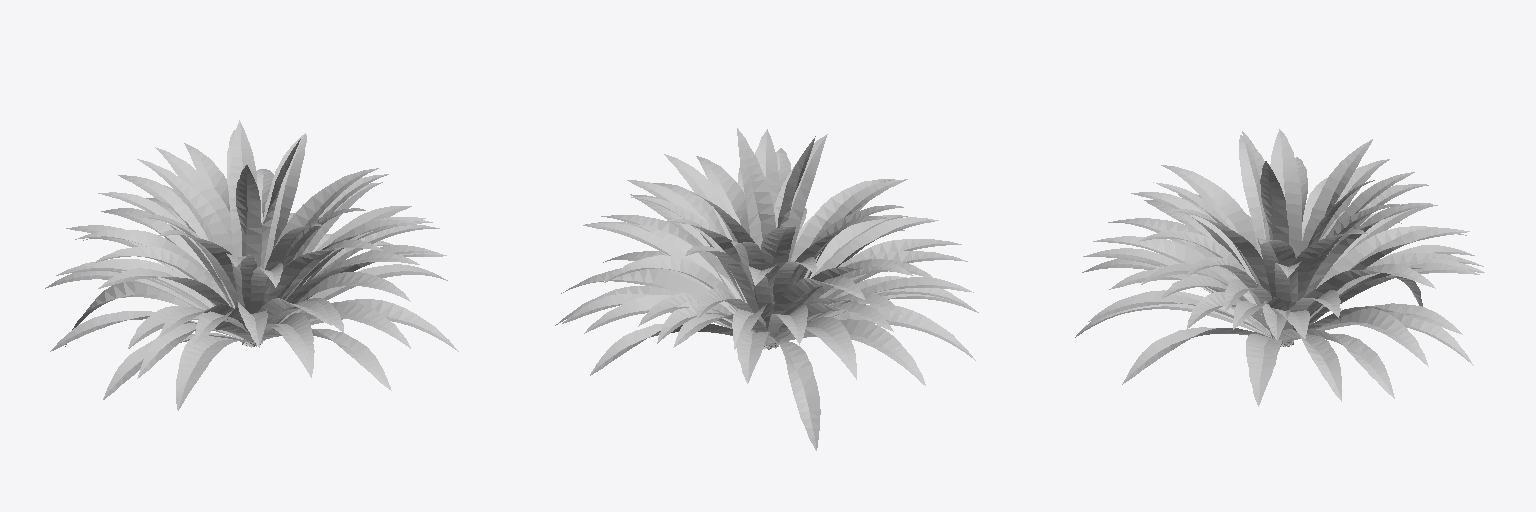
The model's file is grass.obj.
3 renders of one model, left to right at view 1: azimuth 30°, elevation 25°; view 2: azimuth 150°, elevation 25°; view 3: azimuth 270°, elevation 25°, orthographic.
Parts seen in each view (by area): view 1: grass; view 2: grass; view 3: grass.
Part boxes in pixels (x1,y1,x2,y2): grass: (45,120,458,410); grass: (555,128,978,450); grass: (1075,129,1484,406).
Size of the model in its own units: 125 by 74.92 by 123.